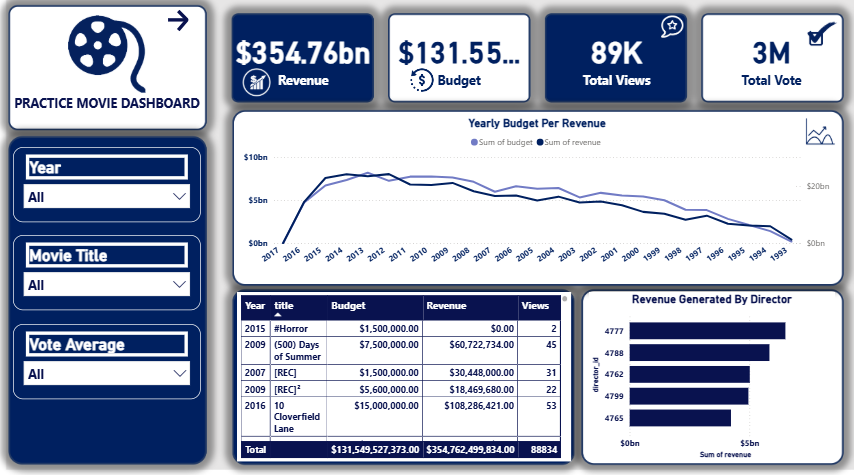

The dashboard page shown, as its layout file describes it:
{"tool":"powerbi","page":{"name":"Executive Page","canvas":[1280,720],"ordinal":0},"visuals":[{"type":"card","fields":{"Values":["DAX MEASURES.Revenue"]},"box":[351.1,31.9,210,132.7],"z":0},{"type":"lineChart","title":"Yearly Budget Per Revenue","fields":{"Category":["movies.Year"],"Y":["Sum(movies.budget)"],"Y2":["Sum(movies.revenue)"]},"box":[362.9,184.3,877.1,235.7],"z":0,"group":"g1"},{"type":"group","id":"g1","title":"BUDREV","box":[362.9,184.3,877.1,235.7],"z":1000},{"type":"actionButton","box":[251.4,24.3,52.9,40],"z":2000},{"type":"card","fields":{"Values":["DAX MEASURES.Budget"]},"box":[582.9,31.9,206.6,132.7],"z":4000},{"type":"image","box":[1185.6,172.5,66.1,69],"z":5000},{"type":"card","fields":{"Values":["DAX MEASURES.Total Views"]},"box":[814.7,31.9,208.3,132.7],"z":6000},{"type":"card","fields":{"Values":["DAX MEASURES.Total Vote"]},"box":[1042.7,31.1,207.9,134.2],"z":7000},{"type":"slicer","fields":{"Values":["movies.Year"]},"box":[27.8,230.8,276.6,111.3],"z":8000},{"type":"slicer","fields":{"Values":["movies.original_title"]},"box":[27.8,360.1,276.6,111.3],"z":9000},{"type":"slicer","fields":{"Values":["movies.vote_average"]},"box":[27.3,491.5,277.4,110.7],"z":10000},{"type":"tableEx","fields":{"Values":["movies.Year","movies.title","Sum(movies.budget)","Sum(movies.revenue)","Sum(movies.popularity)"]},"box":[358.6,444.3,492.9,250],"z":11000},{"type":"textbox","box":[4.9,147.3,324.1,58.9],"z":12000},{"type":"image","box":[362.2,106.3,51.7,56],"z":13000},{"type":"image","box":[978.7,31.6,44.5,43.1],"z":14000},{"type":"image","box":[1194.2,31.6,57.5,66.1],"z":15000},{"type":"image","box":[603.6,97.7,56,67.5],"z":16000},{"type":"image","box":[100.6,31.6,132.2,123.6],"z":17000},{"type":"clusteredBarChart","title":"Revenue Generated By Director","fields":{"Y":["Sum(movies.revenue)"],"Category":["movies.director_id"]},"box":[877.1,444.3,362.9,250],"z":18000}]}

Visuals, with their boxes in screenshot pixels (x1, y1, x2, y2), scaled from the page's 1280x720 canvas onto the 854x475 screenshot:
card - DAX MEASURES.Revenue: (left=234, top=21, right=374, bottom=109)
"Yearly Budget Per Revenue" lineChart: (left=242, top=122, right=827, bottom=277)
"BUDREV" group: (left=242, top=122, right=827, bottom=277)
actionButton: (left=168, top=16, right=203, bottom=42)
card - DAX MEASURES.Budget: (left=389, top=21, right=527, bottom=109)
image: (left=791, top=114, right=835, bottom=159)
card - DAX MEASURES.Total Views: (left=544, top=21, right=683, bottom=109)
card - DAX MEASURES.Total Vote: (left=696, top=21, right=834, bottom=109)
slicer - movies.Year: (left=19, top=152, right=203, bottom=226)
slicer - movies.original_title: (left=19, top=238, right=203, bottom=311)
slicer - movies.vote_average: (left=18, top=324, right=203, bottom=397)
tableEx - movies.Year x movies.title: (left=239, top=293, right=568, bottom=458)
textbox: (left=3, top=97, right=220, bottom=136)
image: (left=242, top=70, right=276, bottom=107)
image: (left=653, top=21, right=683, bottom=49)
image: (left=797, top=21, right=835, bottom=64)
image: (left=403, top=64, right=440, bottom=109)
image: (left=67, top=21, right=155, bottom=102)
"Revenue Generated By Director" clusteredBarChart: (left=585, top=293, right=827, bottom=458)
